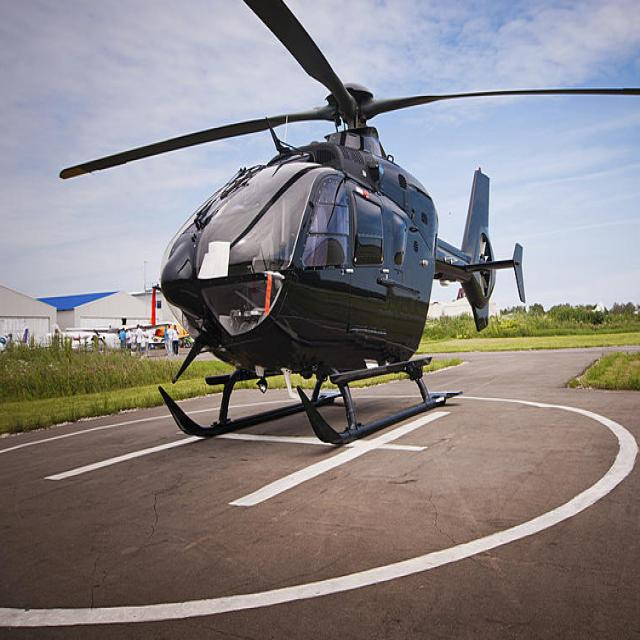helicopter: (63, 1, 640, 452)
